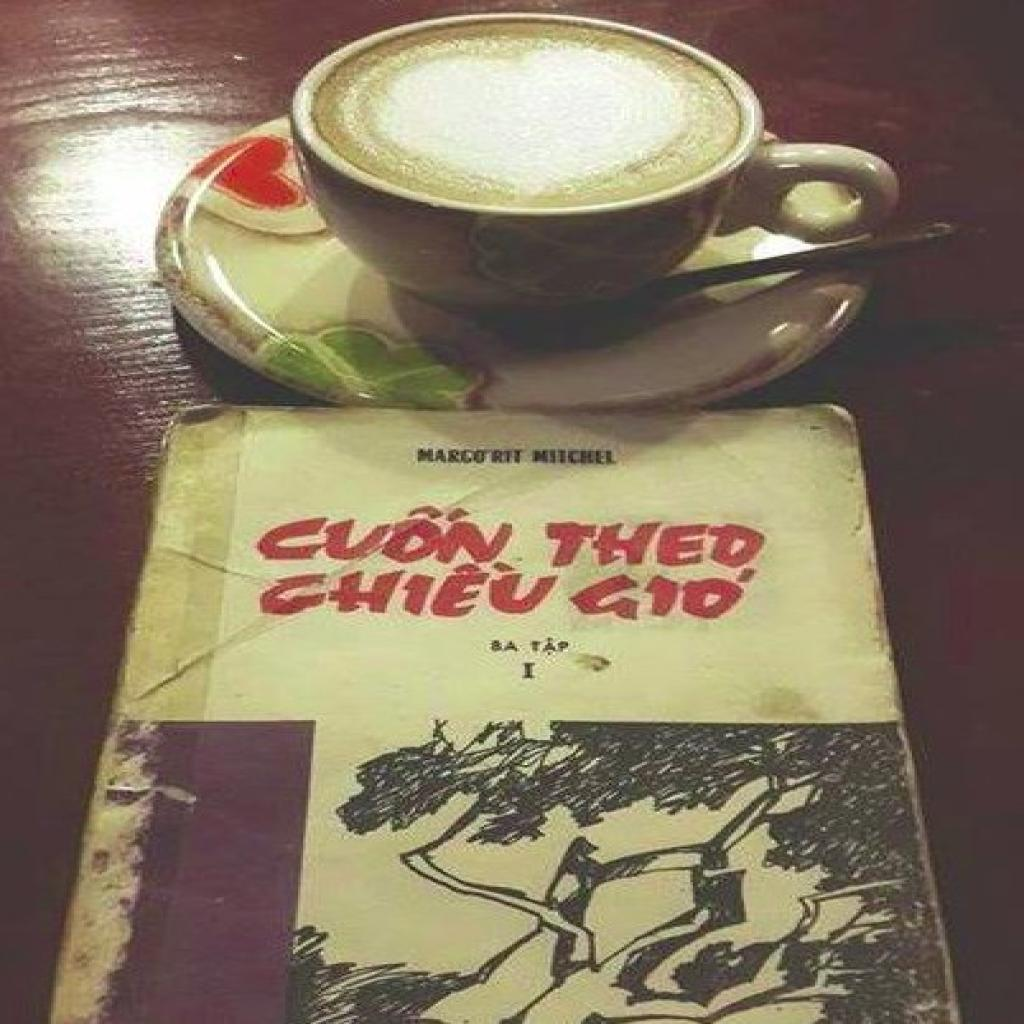text: (254, 558, 576, 618), (252, 503, 532, 566), (542, 520, 780, 570), (563, 568, 774, 623), (415, 446, 489, 466), (566, 448, 622, 468), (527, 635, 573, 658), (487, 638, 522, 655), (530, 448, 553, 464), (492, 448, 507, 466)
